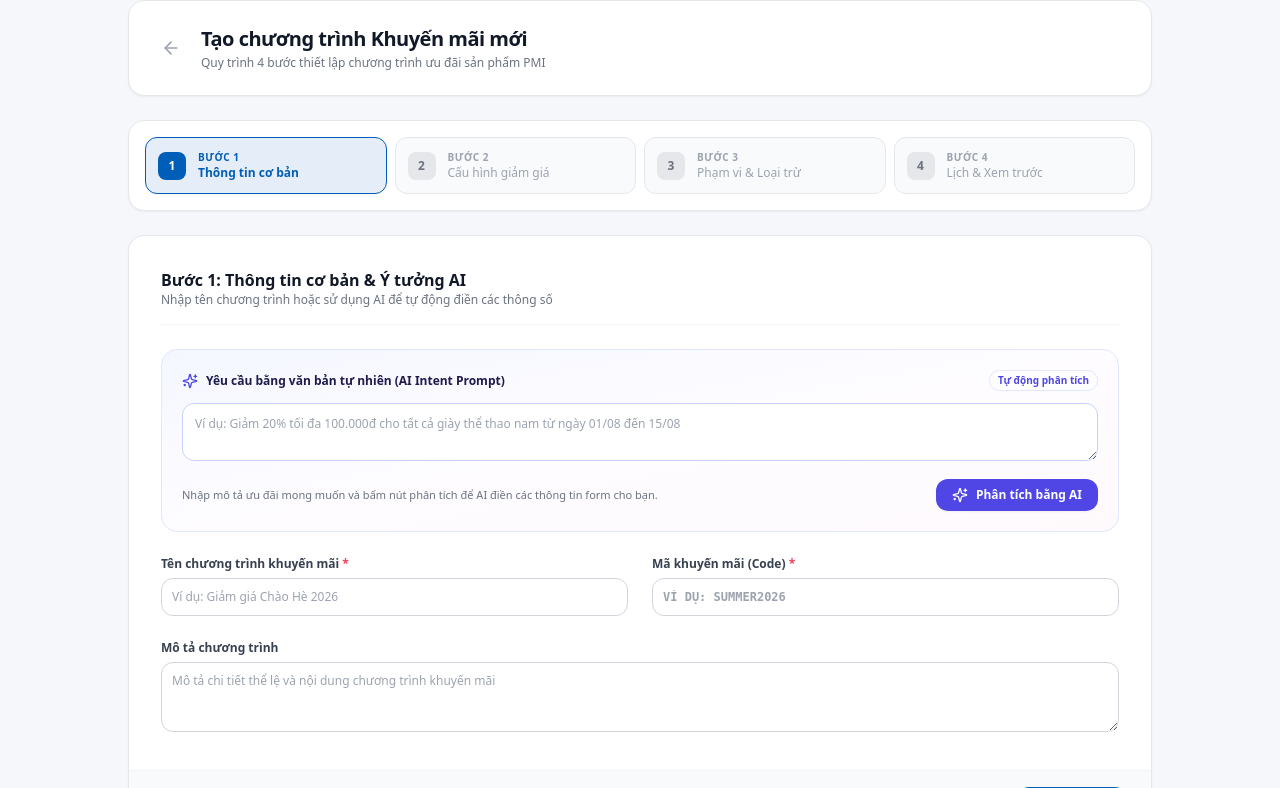
Test: PromotionForm Component Tests › 4. Navigates step by step through 4 wizard steps
The width and height of the screenshot is (1280, 788).
Type "Chương trình Khuyến Mãi Test" into the field with placeholder "Ví dụ: Giảm giá Chào Hè 2026" at (394, 597), box [161,578,628,616]
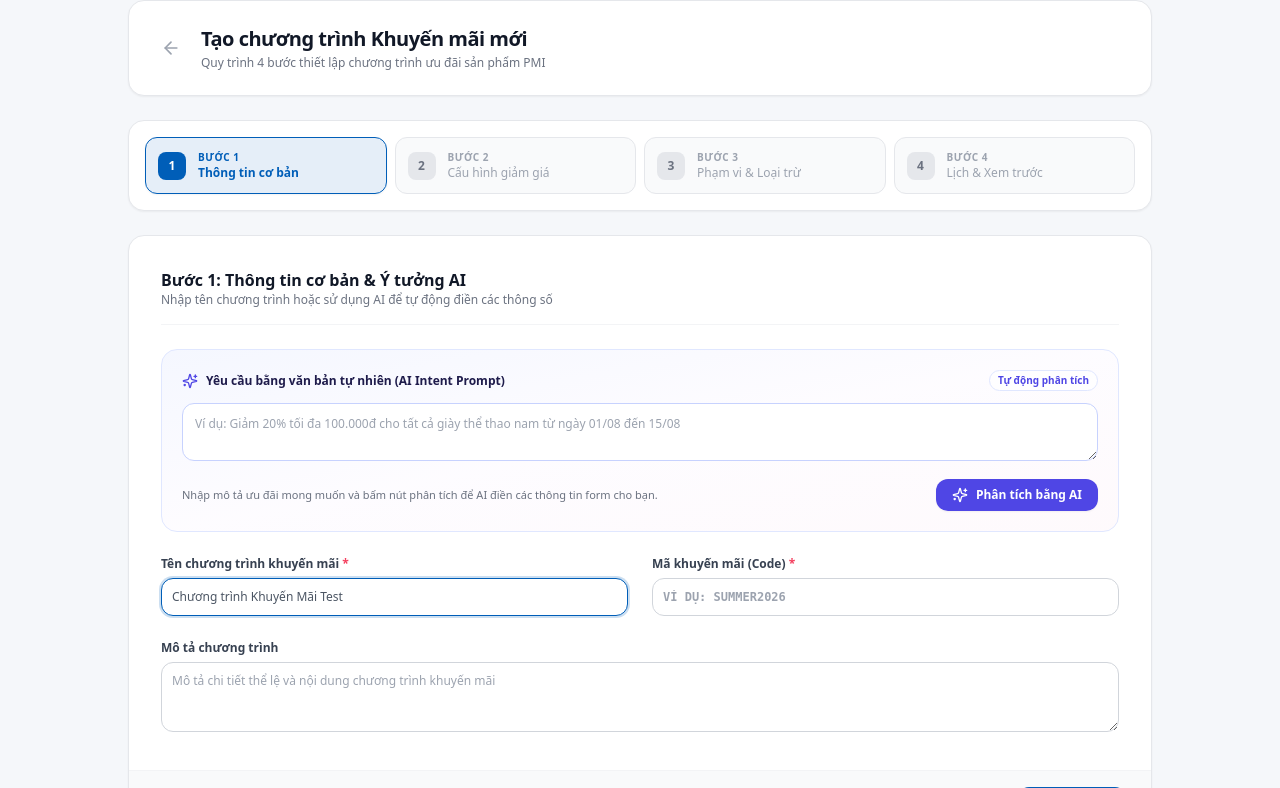
Type "TESTPROMO" into the field with placeholder "Ví dụ: SUMMER2026" at (886, 597), box [652,578,1119,616]
(page scrolled)
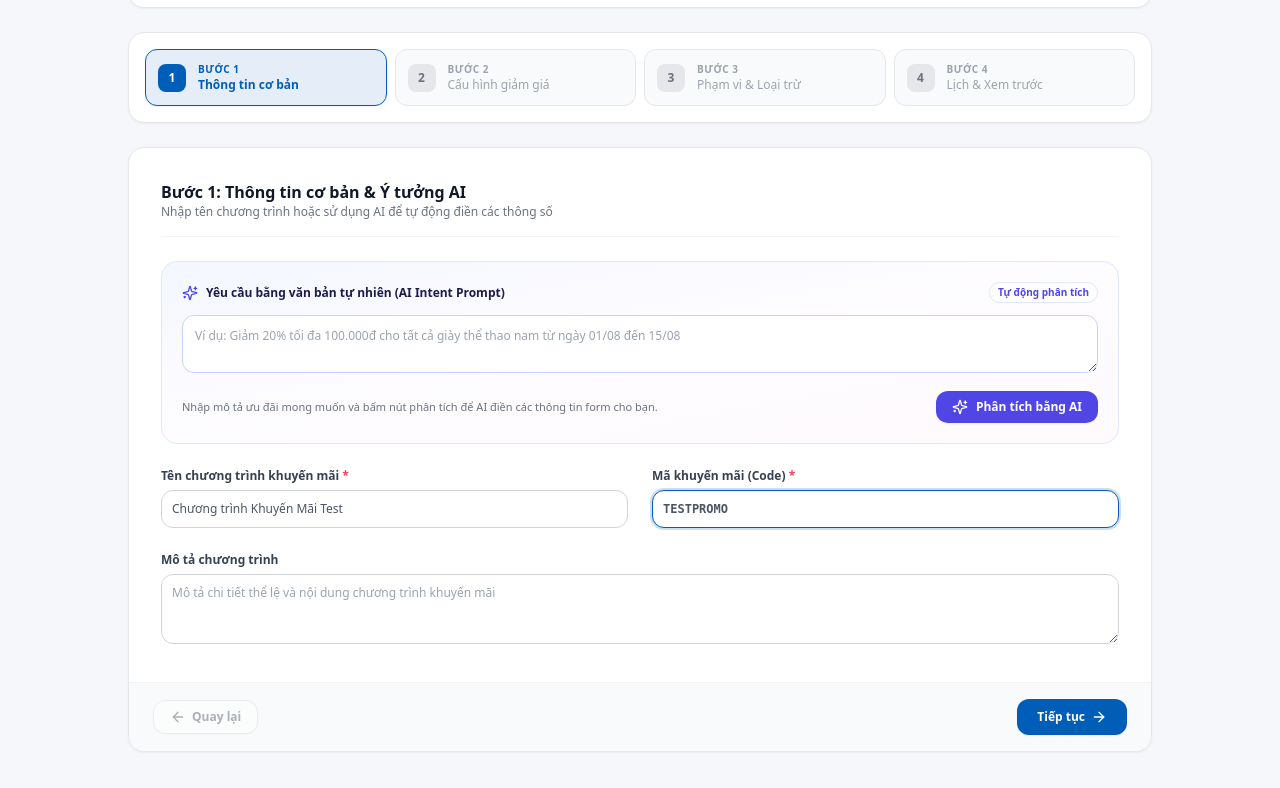
Go to Step 2
Click the button "Tiếp tục" at (1072, 717), box [1017,699,1127,735]
(page scrolled)
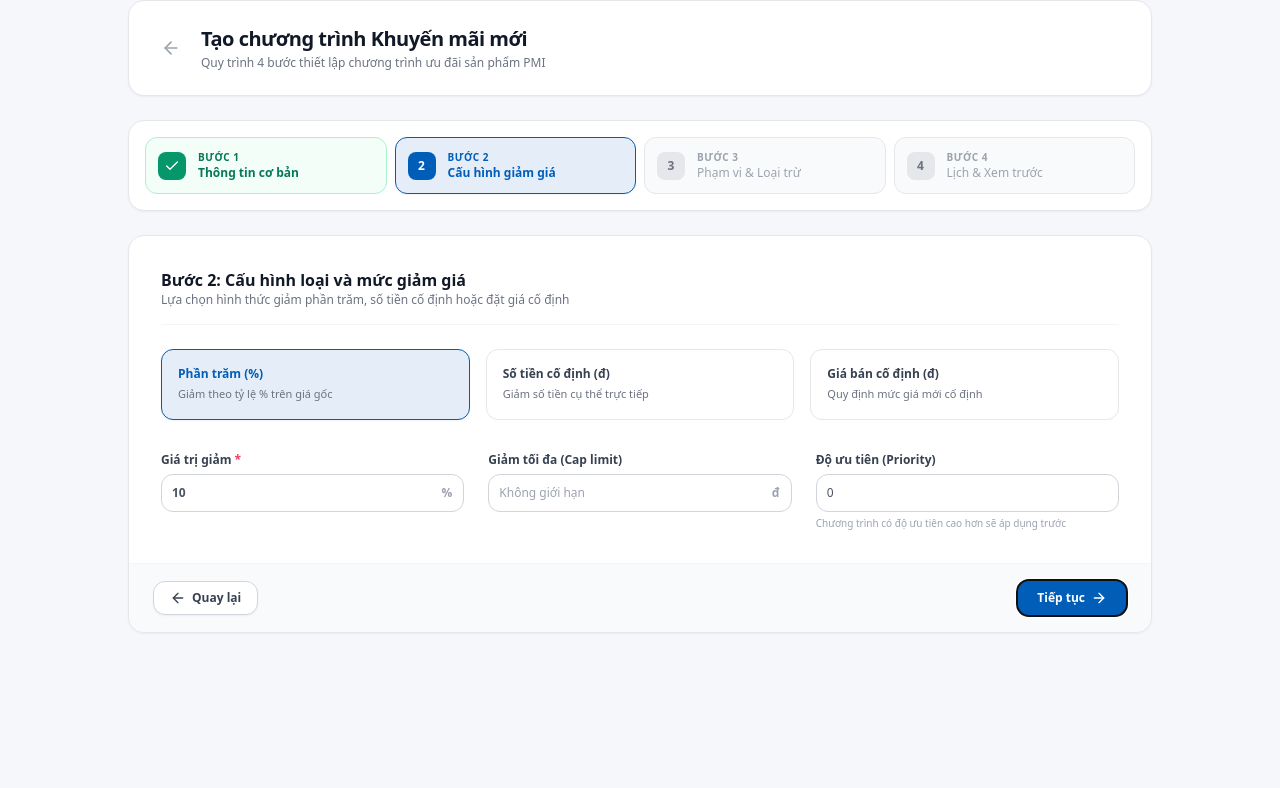
expect the heading "Bước 2: Cấu hình loại và mức giảm giá" is shown: met, box [161,269,466,291]
Go to Step 3
Click the button "Tiếp tục" at (1072, 598), box [1017,580,1127,616]
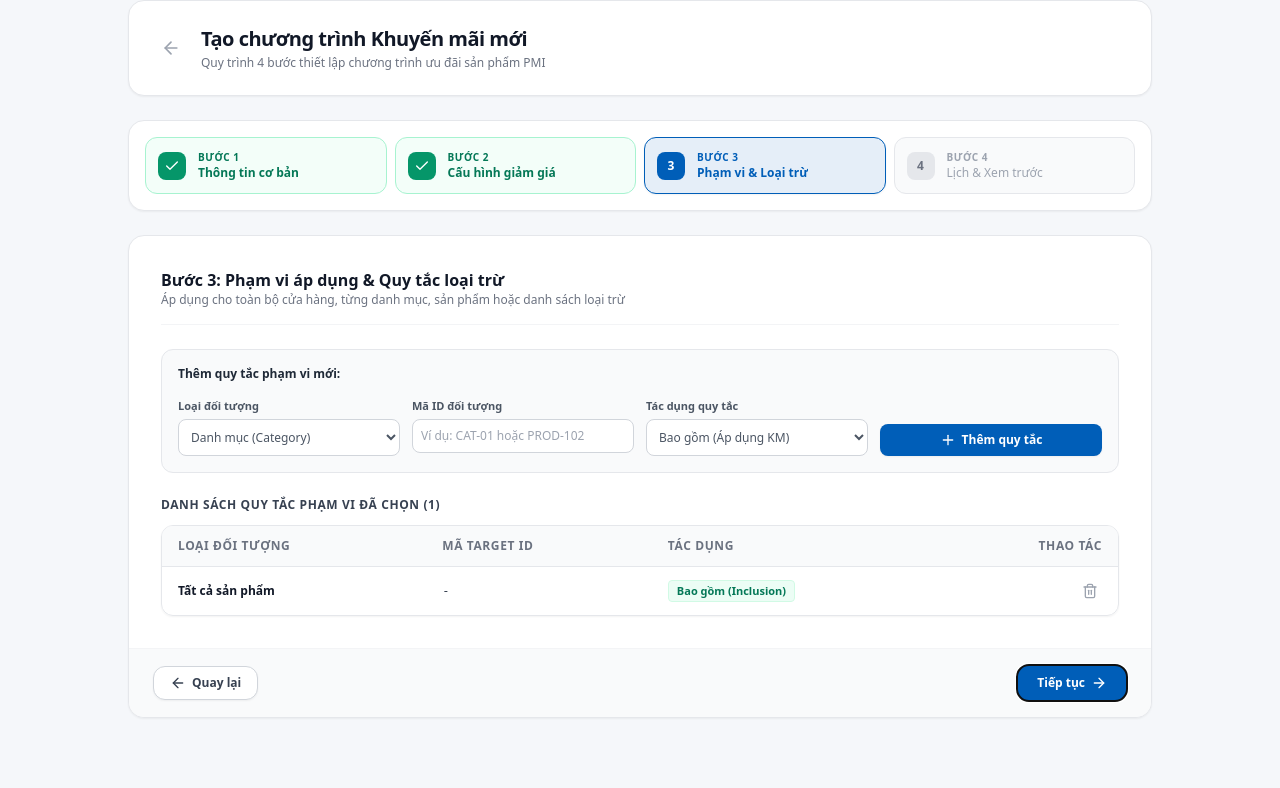
expect the heading "Bước 3: Phạm vi áp dụng & Quy tắc loại trừ" is shown: met, box [161,269,504,291]
Go to Step 4
Click the button "Tiếp tục" at (1072, 682), box [1017,664,1127,700]
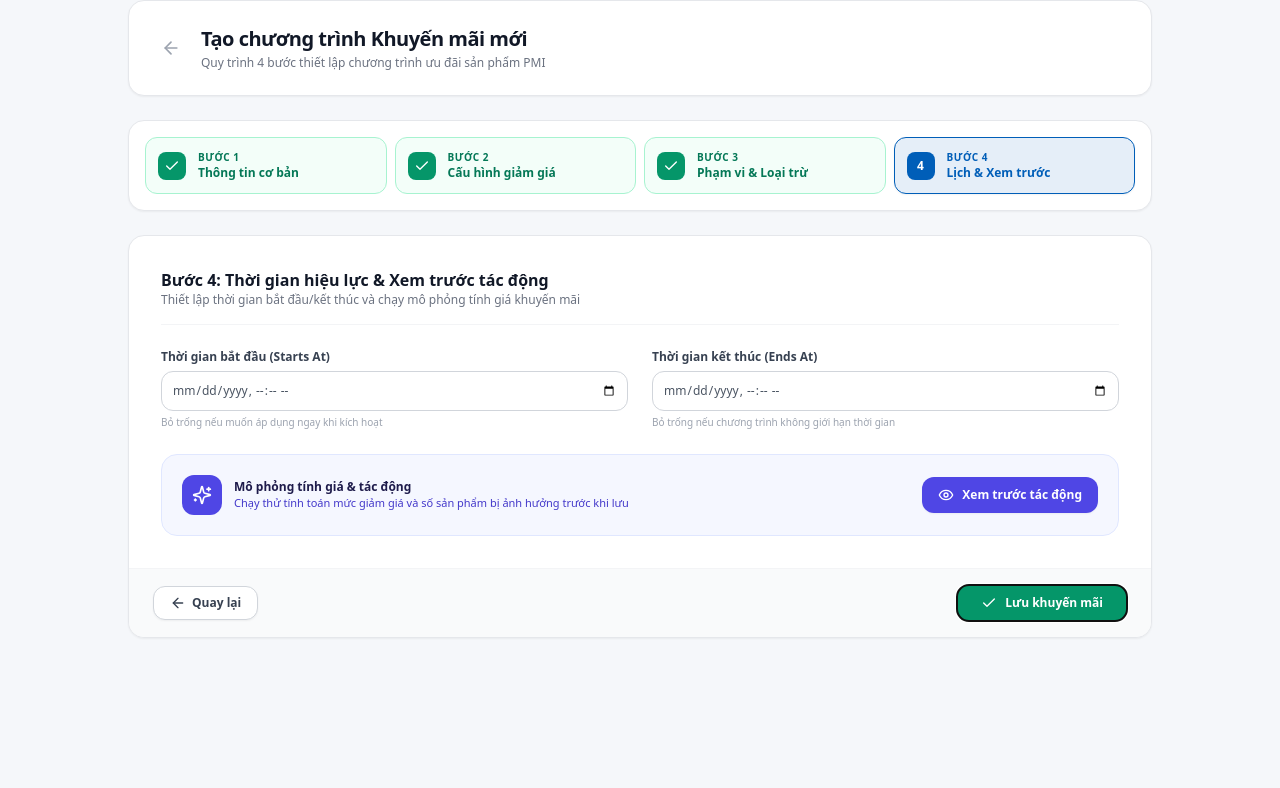
expect the heading "Bước 4: Thời gian hiệu lực & Xem trước tác động" is shown: met, box [161,269,549,291]
